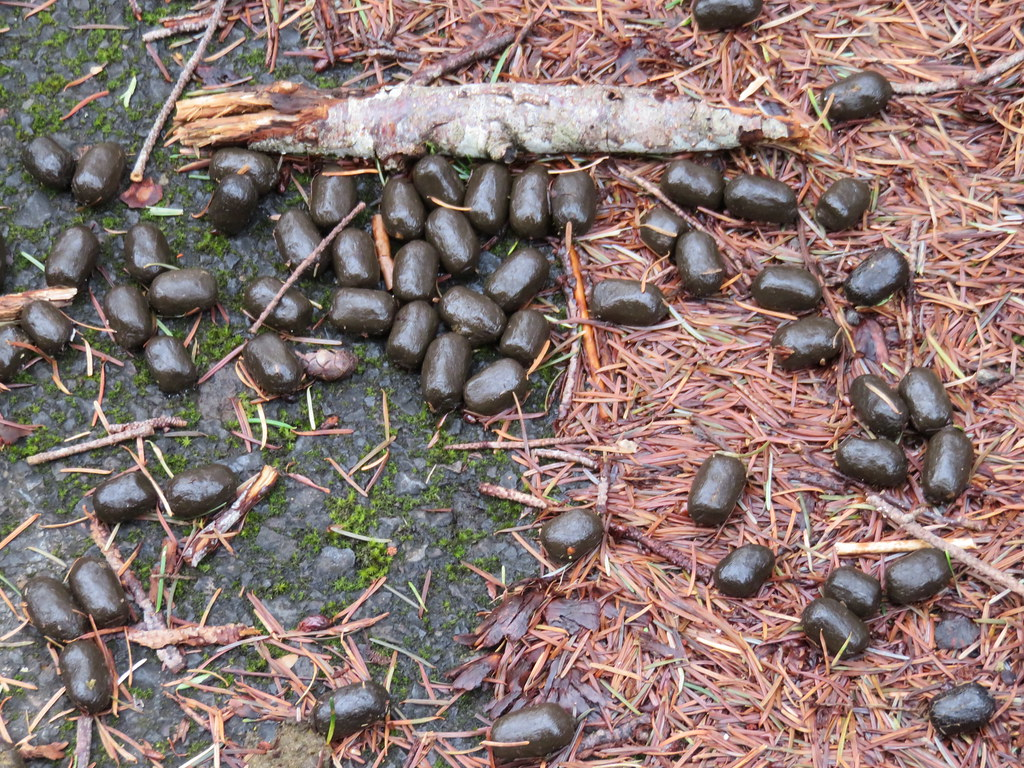Elk: (47, 196, 286, 624), (733, 194, 962, 504), (322, 158, 538, 395)
